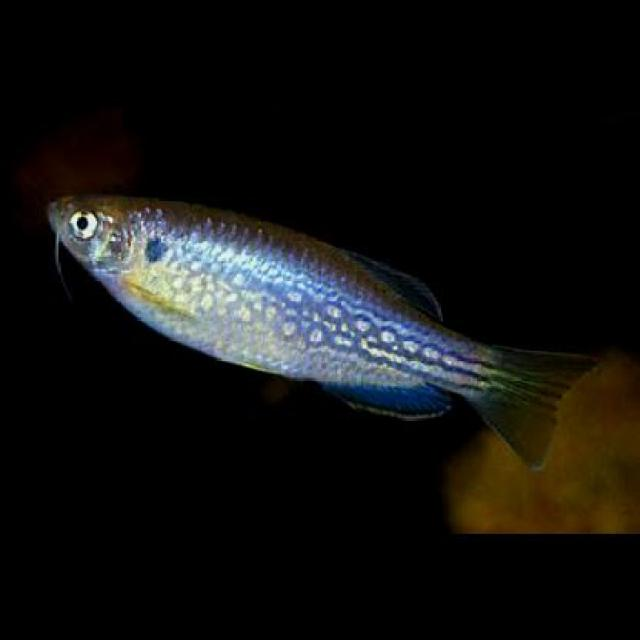ZebraFish: (44, 186, 598, 466)
